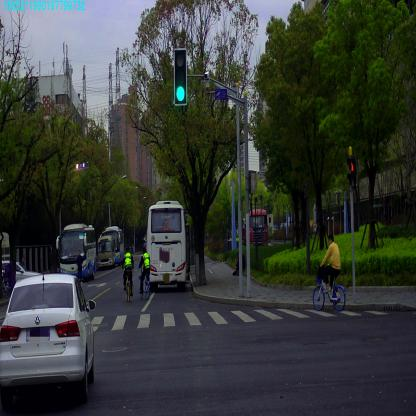traffic-light: (174, 49, 187, 104)
